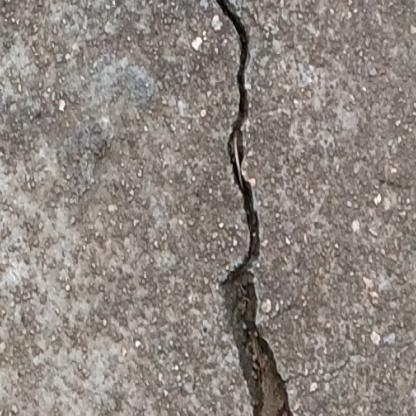Cracks: (213, 0, 316, 416)
